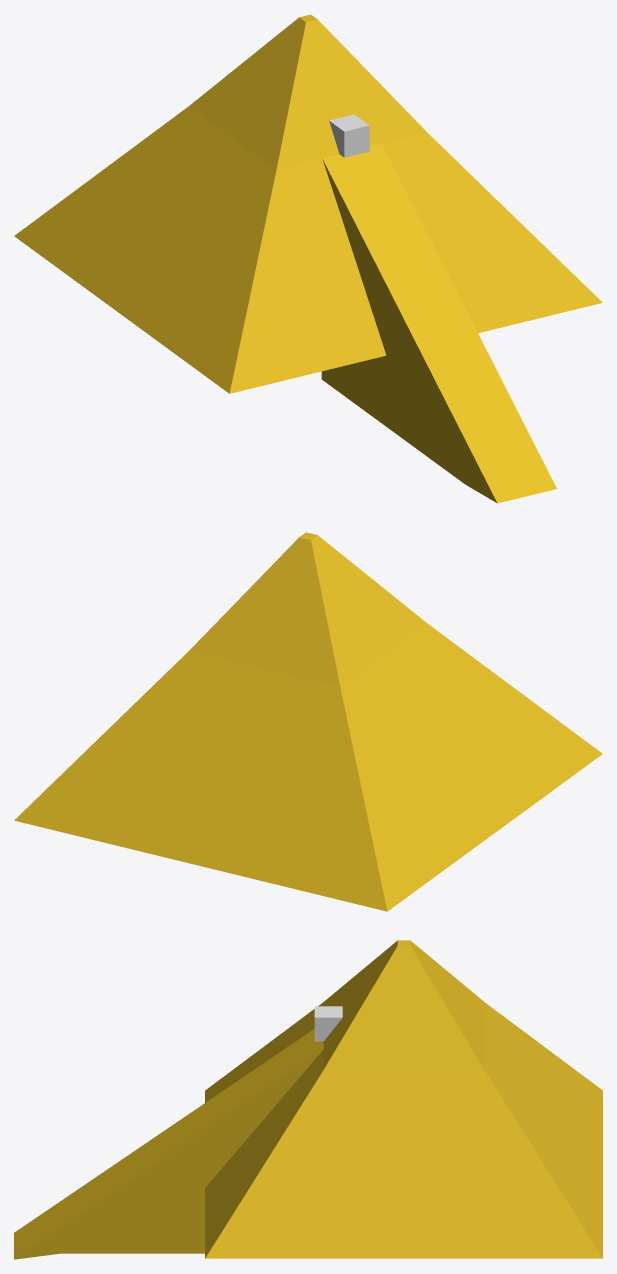
3 renders of one model, top to bottom at view 1: azimuth 30°, elevation 25°; view 2: azimuth 150°, elevation 25°; view 3: azimuth 270°, elevation 25°, orthographic. The views are drawn at different scales.
Parts seen in each view (by area): view 1: Cone, Cube.001, Cube; view 2: Cone; view 3: Cone, Cube.001, Cube.
Part boxes in pixels (box(x1,y1,x2,y2)): Cone: box(14, 14, 602, 393); Cube.001: box(321, 144, 556, 503); Cube: box(329, 114, 369, 157); Cone: box(14, 532, 602, 911); Cone: box(205, 940, 602, 1258); Cube.001: box(14, 1029, 323, 1259); Cube: box(314, 1006, 342, 1041).
Bounding box in the file's own units: 78.3 × 65.12 × 116.
